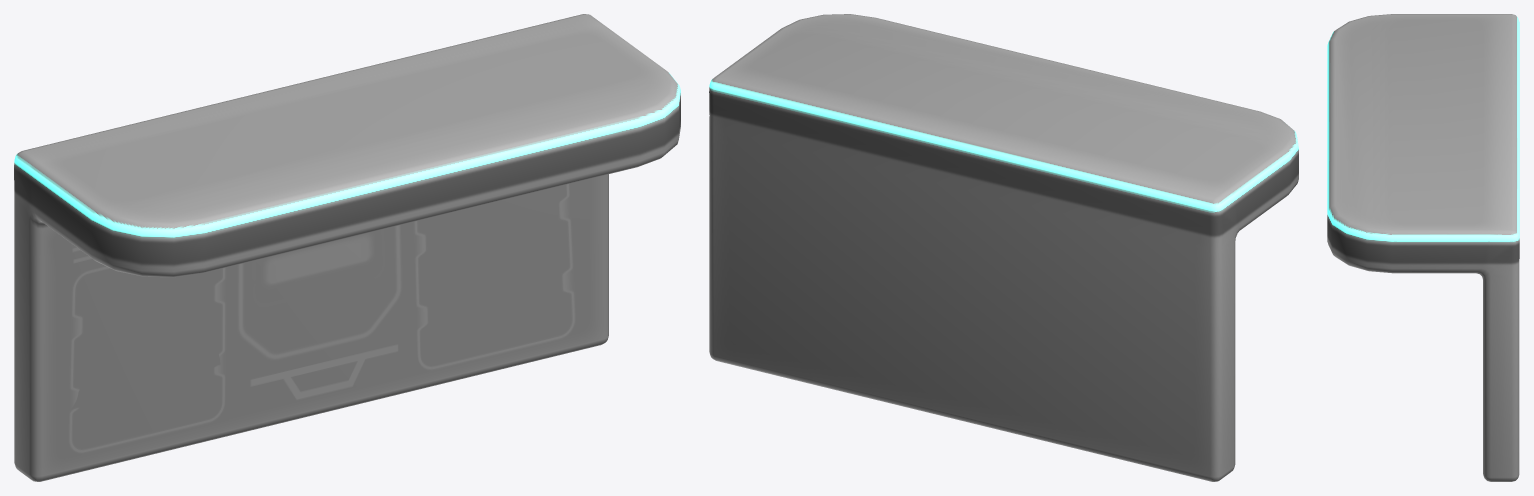
Rendered from futuristicTable.fbx.
3 renders of one model, left to right at view 1: azimuth 30°, elevation 25°; view 2: azimuth 150°, elevation 25°; view 3: azimuth 270°, elevation 25°, orthographic. The views are drawn at different scales.
Parts seen in each view (by area): view 1: SM_desk; view 2: SM_desk; view 3: SM_desk.
Part boxes in pixels (x1=…): SM_desk: x1=14, y1=14, x2=680, y2=481; SM_desk: x1=709, y1=14, x2=1298, y2=481; SM_desk: x1=1327, y1=14, x2=1519, y2=481.
Size of the model in its own units: 174 by 91.68 by 63.59.
